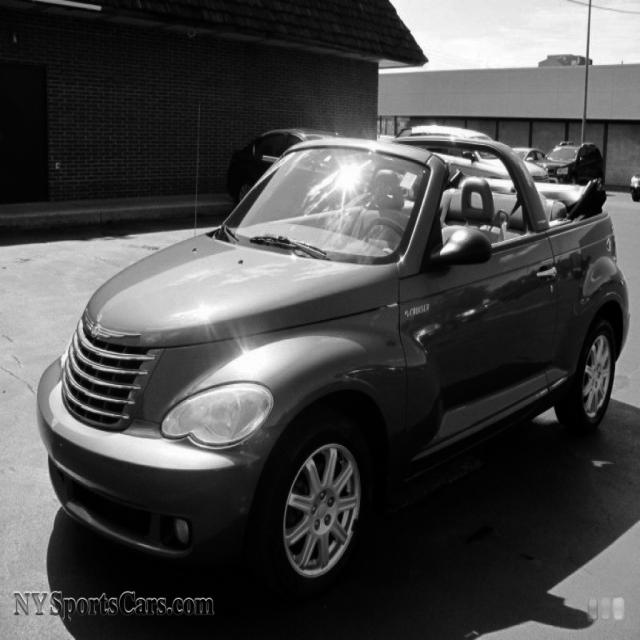car: (36, 132, 630, 600), (226, 126, 341, 206)
